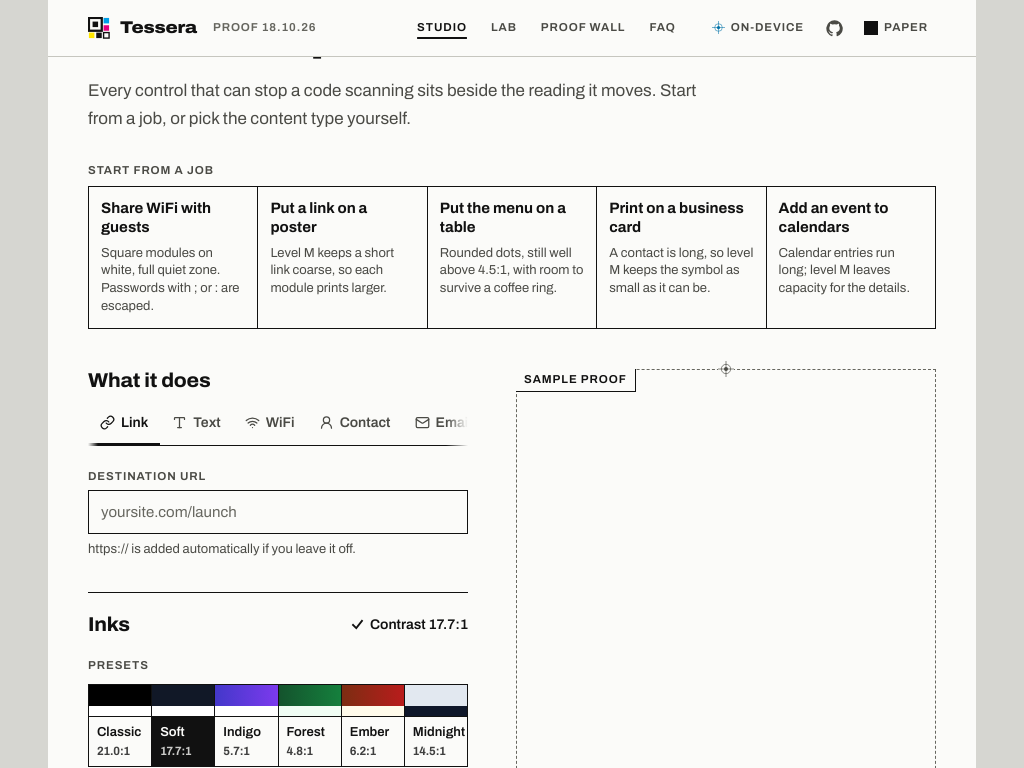
Test: App › disables the WiFi password field for an open network
The width and height of the screenshot is (1024, 768).
(page scrolled)
Click the tab "WiFi". click: (270,425)
box: [233, 404, 307, 445]
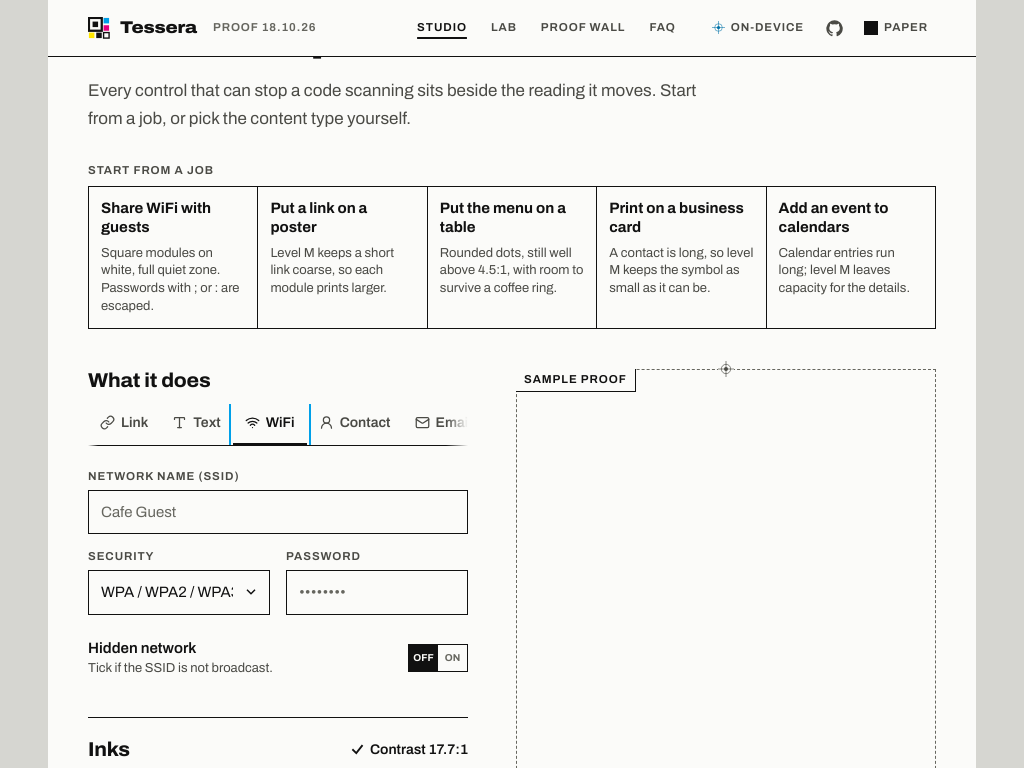
Select "Open (no password)" in the dropdown labelled "Security". click: (179,592)
box: [88, 570, 270, 615]
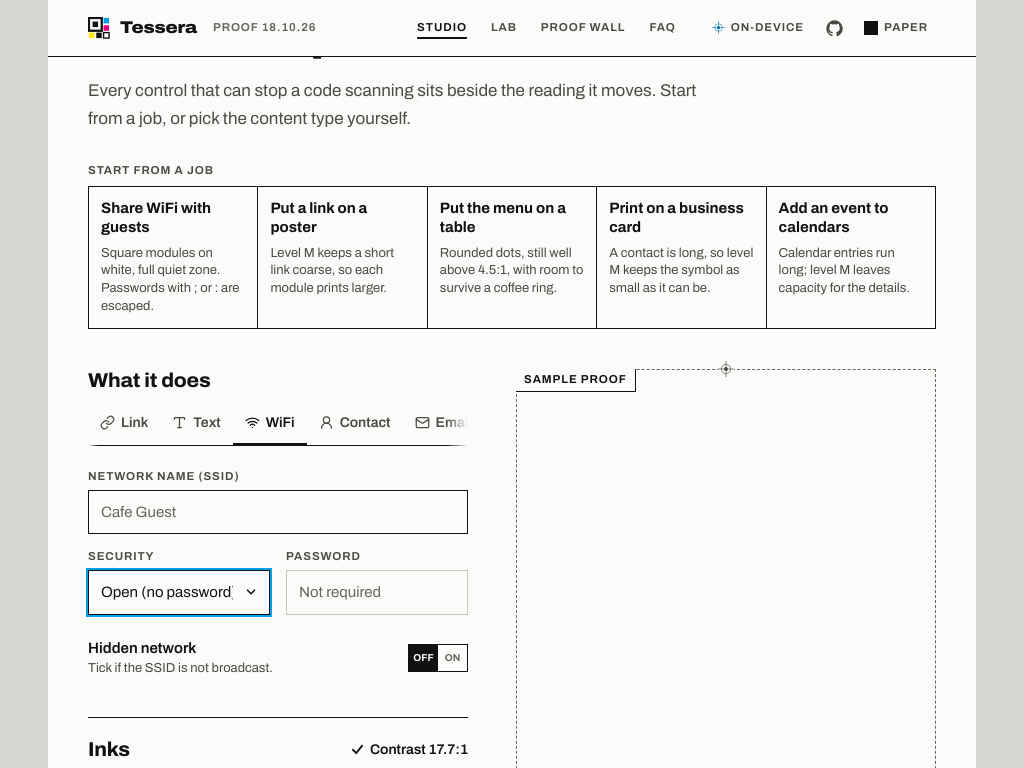
Result: the field labelled "Password" is disabled at [286, 570, 468, 615]
